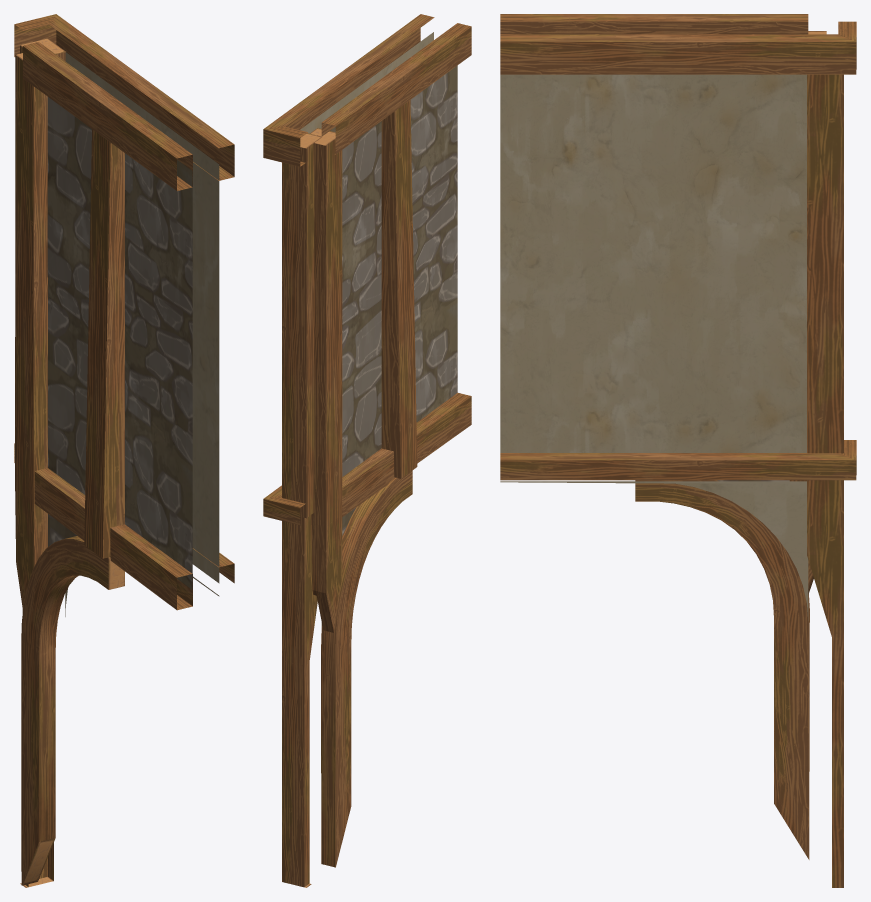
File: Overhang_Side_UnevenBrick_Long_L.obj
3 renders of one model, left to right at view 1: azimuth 30°, elevation 25°; view 2: azimuth 150°, elevation 25°; view 3: azimuth 270°, elevation 25°, orthographic. The views are drawn at different scales.
Parts seen in each view (by area): view 1: Overhang_Side_UnevenBrick_Long_L; view 2: Overhang_Side_UnevenBrick_Long_L; view 3: Overhang_Side_UnevenBrick_Long_L.
Boxes of the visible parts, x1=… form: Overhang_Side_UnevenBrick_Long_L: x1=14, y1=14, x2=234, y2=887; Overhang_Side_UnevenBrick_Long_L: x1=263, y1=14, x2=471, y2=887; Overhang_Side_UnevenBrick_Long_L: x1=500, y1=14, x2=856, y2=887.
Size of the model in its own units: 0.4793 by 6.12 by 2.31.
